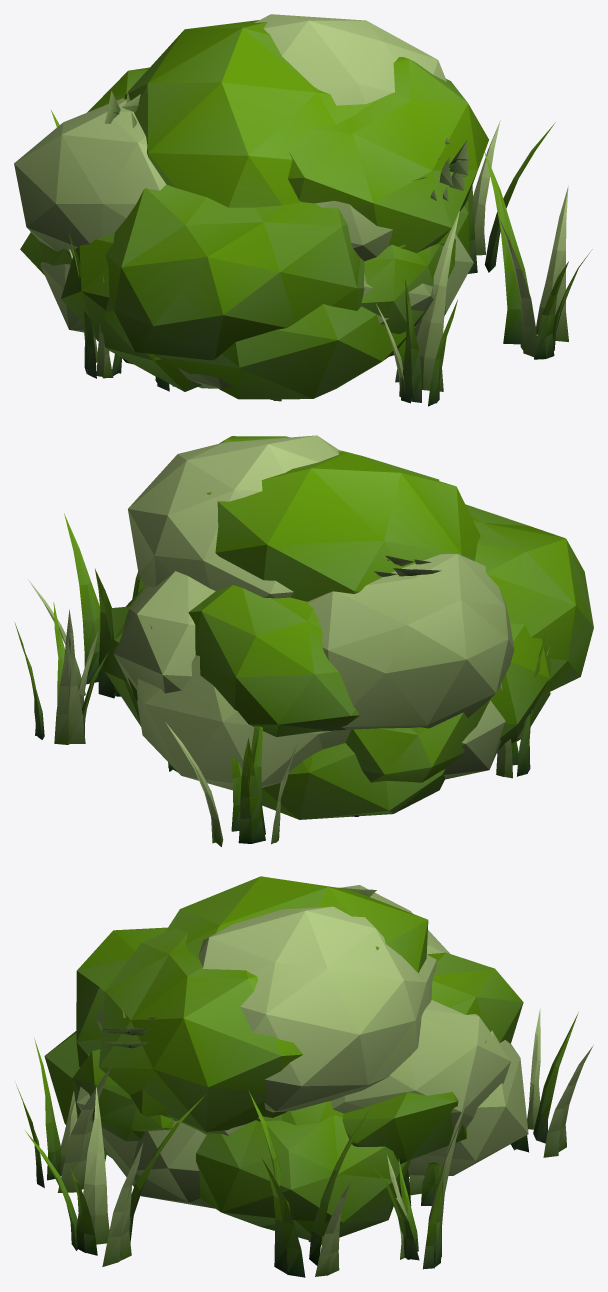
The model's file is vegetasi_bush_moss_783196.glb.
The picture shows the model from 3 angles, top to bottom: view 1: azimuth 30°, elevation 25°; view 2: azimuth 150°, elevation 25°; view 3: azimuth 270°, elevation 25°; orthographic projection. The views are drawn at different scales.
Visible parts, largest first — view 1: Semak_Belukar_Sungai; view 2: Semak_Belukar_Sungai; view 3: Semak_Belukar_Sungai.
Part boxes in pixels (bbox=[...]): Semak_Belukar_Sungai: bbox=[14, 14, 592, 406]; Semak_Belukar_Sungai: bbox=[14, 435, 593, 846]; Semak_Belukar_Sungai: bbox=[16, 876, 593, 1277].
Bounding box in the file's own units: 3.13 × 1.9 × 3.3.
